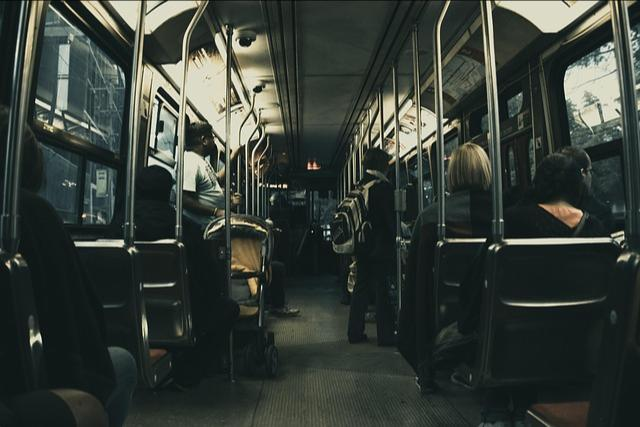Non_Gorille: (46, 0, 592, 418)
